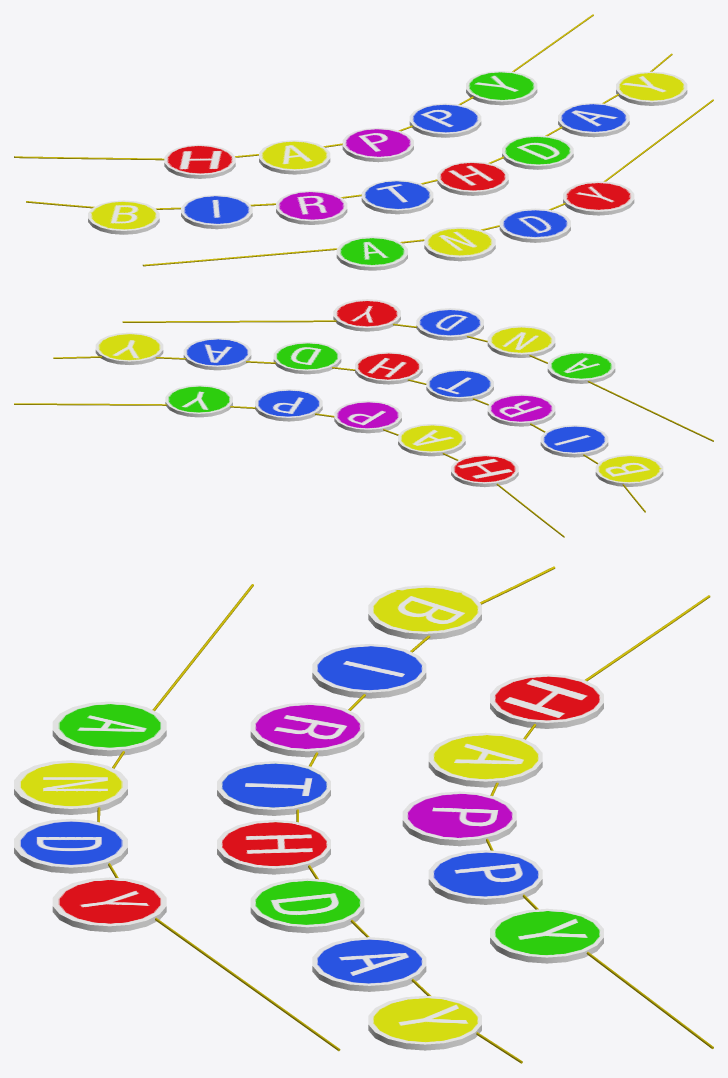
File: Happy_Birthday_Sign.fbx
3 views of the same model, one above another, from view 1: azimuth 30°, elevation 25°; view 2: azimuth 150°, elevation 25°; view 3: azimuth 270°, elevation 25° (orthographic). The views are drawn at different scales.
Parts seen in each view (by area): view 1: curve4; view 2: curve4; view 3: curve4.
Boxes of the visible parts, <box> form: curve4: <box>14,14,713,270</box>; curve4: <box>14,299,713,537</box>; curve4: <box>14,566,713,1063</box>.
Bounding box in the file's own units: 101 × 0.5726 × 60.53.
3 materials, 2 textured.
